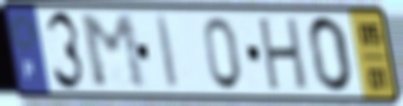0: (305, 15, 356, 95), (200, 14, 245, 94)
3: (42, 9, 89, 94)
H: (257, 15, 310, 94)
I: (153, 12, 182, 92)
M: (76, 12, 151, 92)
